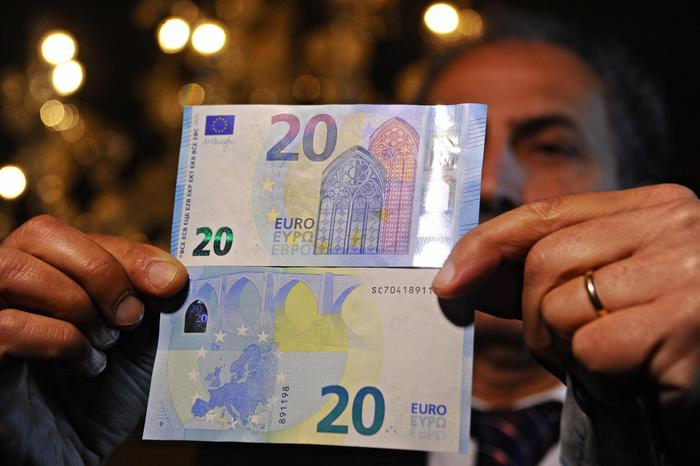billete: (141, 267, 475, 453), (171, 105, 487, 266)
